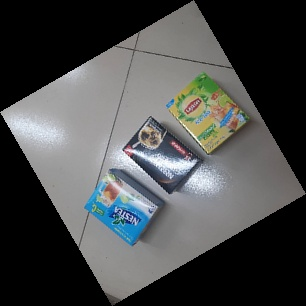CF Viet: (122, 116, 202, 192)
LipTon: (166, 72, 251, 157)
Nestea: (83, 168, 163, 246)
